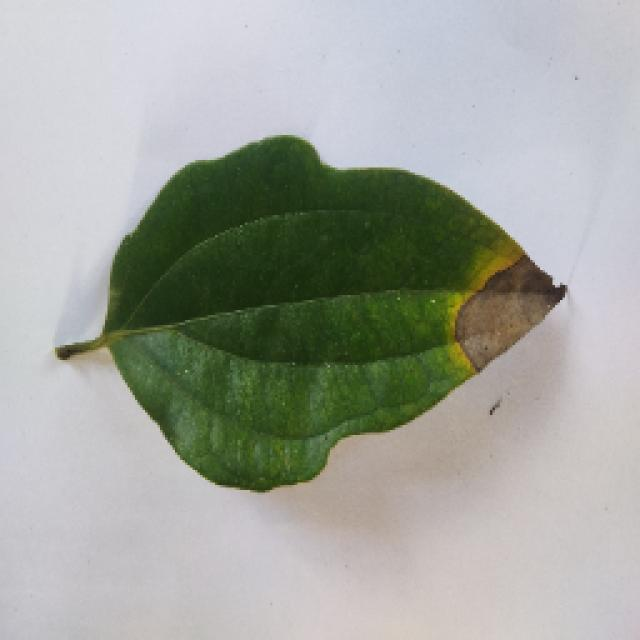footrot: (55, 132, 560, 490)
